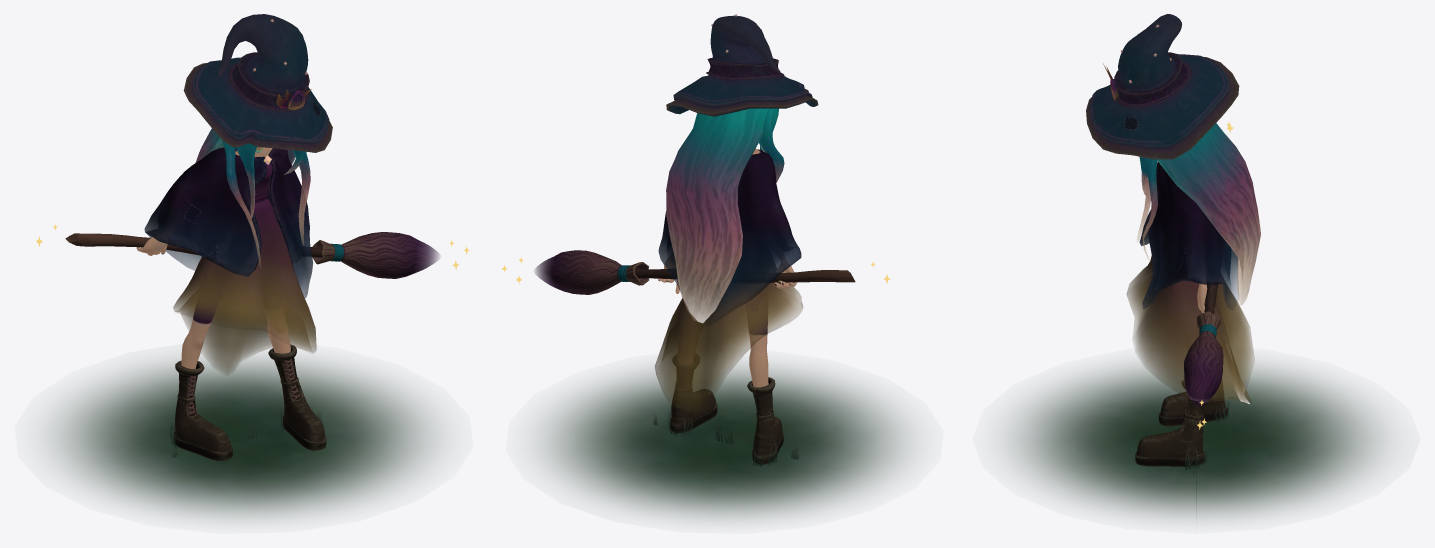
Rendered from witch-apprentice-mobile.glb.
3 views of the same model, side by side, from view 1: azimuth 30°, elevation 25°; view 2: azimuth 150°, elevation 25°; view 3: azimuth 270°, elevation 25° (orthographic). The views are drawn at different scales.
Parts seen in each view (by area): view 1: polySurface10_ground2_0, Body_Clothing_0, Hat_Hat1_0, Body_Body1_0, Broom_LP1_Broom_LP_0; view 2: polySurface10_ground2_0, Body_Clothing_0, Body_Body1_0, Hat_Hat1_0, Broom_LP1_Broom_LP_0; view 3: polySurface10_ground2_0, Body_Clothing_0, Hat_Hat1_0, Body_Body1_0, Broom_LP1_Broom_LP_0.
Boxes of the visible parts, <box> form: polySurface10_ground2_0: <box>50,355,437,518</box>; Body_Clothing_0: <box>144,147,326,460</box>; Hat_Hat1_0: <box>183,14,332,152</box>; Body_Body1_0: <box>136,128,310,368</box>; Broom_LP1_Broom_LP_0: <box>65,232,439,278</box>; polySurface10_ground2_0: <box>539,364,909,519</box>; Body_Clothing_0: <box>654,149,802,464</box>; Body_Body1_0: <box>658,108,796,387</box>; Hat_Hat1_0: <box>666,14,818,116</box>; Broom_LP1_Broom_LP_0: <box>535,250,855,294</box>; polySurface10_ground2_0: <box>1008,363,1384,521</box>; Body_Clothing_0: <box>1126,162,1254,466</box>; Hat_Hat1_0: <box>1086,14,1239,159</box>; Body_Body1_0: <box>1137,123,1260,313</box>; Broom_LP1_Broom_LP_0: <box>1183,276,1223,407</box>.
Bounding box in the file's own units: 585 × 567 × 545.
6 materials, 5 textured.
